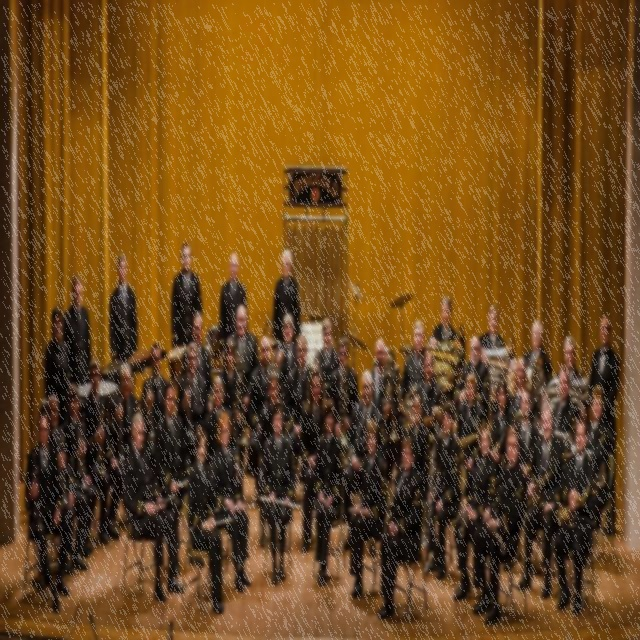pessoa: (122, 410, 184, 604), (472, 421, 528, 627), (152, 378, 207, 580), (24, 405, 71, 615), (518, 398, 566, 602), (552, 413, 599, 619), (376, 432, 424, 624), (258, 396, 304, 588), (80, 355, 124, 548), (452, 421, 498, 602), (208, 408, 252, 596), (46, 392, 90, 578), (586, 312, 620, 542), (343, 369, 384, 559), (186, 423, 226, 617), (422, 398, 462, 585), (348, 418, 388, 602), (310, 396, 346, 592), (62, 381, 98, 558), (226, 304, 259, 479), (247, 332, 279, 509), (204, 374, 244, 504), (453, 370, 486, 514), (284, 331, 315, 474), (176, 340, 210, 468), (108, 252, 139, 392), (216, 336, 246, 474), (170, 240, 204, 354), (330, 334, 360, 460), (217, 250, 250, 364), (426, 292, 458, 408), (108, 361, 139, 476), (44, 305, 72, 431), (453, 334, 491, 426), (62, 273, 92, 388), (585, 382, 611, 514), (554, 334, 590, 427), (272, 246, 302, 352), (370, 336, 397, 446), (180, 310, 210, 408), (140, 342, 170, 438), (513, 384, 539, 486), (489, 376, 515, 476), (412, 348, 444, 424), (522, 318, 554, 389), (398, 318, 426, 398), (274, 312, 299, 401), (551, 364, 578, 444), (508, 356, 536, 426), (318, 316, 340, 404), (478, 303, 506, 365)
